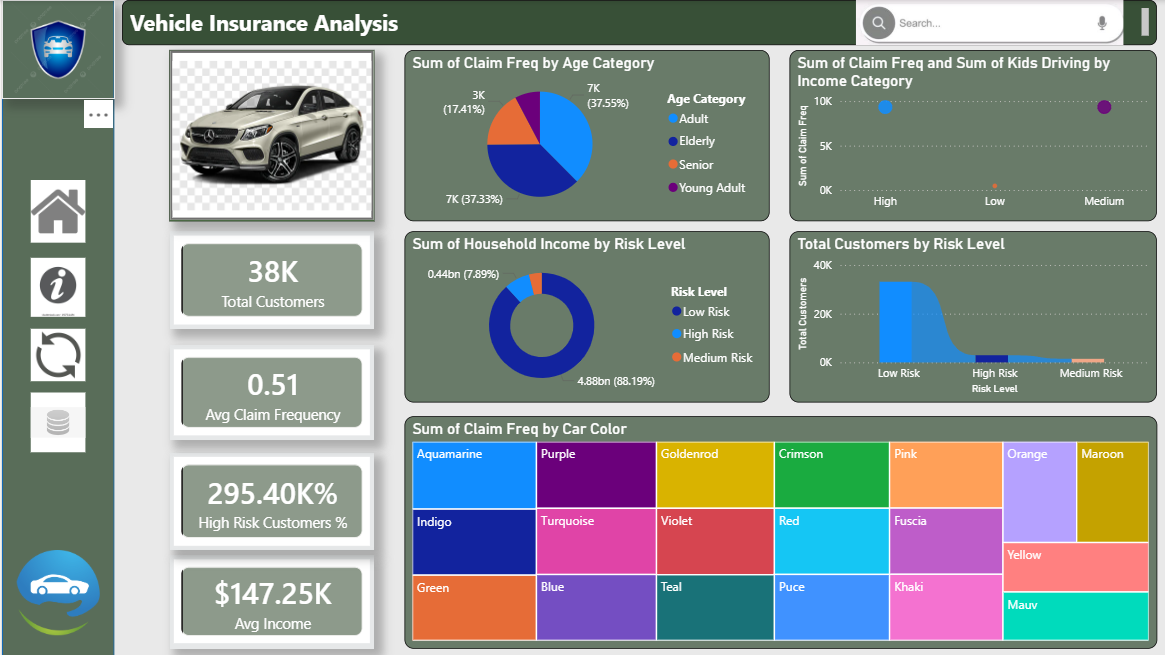

The page's visual inventory and layout, read from the dashboard file:
{"tool":"powerbi","page":{"name":"Page 1","canvas":[1280,720],"ordinal":0},"visuals":[{"type":"shape","box":[0,0,123.5,720.4],"z":0},{"type":"cardVisual","fields":{"Data":["Table1.Total Customers"]},"box":[183.9,253.9,225,107],"z":1000},{"type":"cardVisual","fields":{"Data":["Table1.Avg Claim Frequency"]},"box":[183.9,378.7,225,104.3],"z":2000},{"type":"cardVisual","fields":{"Data":["Table1.Avg Income"]},"box":[183.9,609.3,225,102.9],"z":3000},{"type":"cardVisual","fields":{"Data":["Table1.High Risk Customers %"]},"box":[183.9,496.7,225,107],"z":4000},{"type":"image","box":[0,0,123.5,108.4],"z":5000},{"type":"image","box":[13.7,603.8,96.1,93.3],"z":6000},{"type":"pieChart","fields":{"Category":["Table1.Age Category"],"Y":["Sum(Table1.Claim Freq)"]},"box":[441.9,54.9,400.7,188],"z":7000},{"type":"donutChart","fields":{"Category":["Table1.Risk Level"],"Y":["Sum(Table1.Household Income)"]},"box":[441.9,253.9,400.7,188],"z":8000},{"type":"scatterChart","fields":{"X":["Table1.Income Category"],"Y":["Sum(Table1.Claim Freq)"],"Size":["Sum(Table1.Kids Driving)"]},"box":[864.5,54.9,403.4,188],"z":9000},{"type":"treemap","fields":{"Group":["Table1.Car Color"],"Values":["Sum(Table1.Claim Freq)"]},"box":[441.9,456.9,826.1,255.2],"z":10000},{"type":"ribbonChart","fields":{"Category":["Table1.Risk Level"],"Y":["Table1.Total Customers"]},"box":[864.5,253.9,403.4,188],"z":11000},{"type":"image","box":[183.9,54.9,225,188],"z":12000},{"type":"textbox","box":[131.7,0,1136.2,49.4],"z":13000},{"type":"image","box":[31.6,197.6,60.4,68.6],"z":14000},{"type":"image","box":[31.6,266.2,60.4,98.8],"z":15000},{"type":"image","box":[31.6,360.9,60.4,57.6],"z":16000},{"type":"image","box":[31.6,430.9,60.4,65.9],"z":17000},{"type":"image","box":[935.9,0,296.4,49.4],"z":18000}]}

Visuals, with their boxes in screenshot pixels (x1, y1, x2, y2):
shape: <region>0, 0, 111, 647</region>
cardVisual - Table1.Total Customers: <region>165, 228, 367, 324</region>
cardVisual - Table1.Avg Claim Frequency: <region>165, 340, 367, 434</region>
cardVisual - Table1.Avg Income: <region>165, 547, 367, 639</region>
cardVisual - Table1.High Risk Customers %: <region>165, 446, 367, 542</region>
image: <region>0, 0, 111, 97</region>
image: <region>12, 542, 99, 626</region>
pieChart - Table1.Age Category x Sum(Table1.Claim Freq): <region>397, 49, 756, 218</region>
donutChart - Table1.Risk Level x Sum(Table1.Household Income): <region>397, 228, 756, 397</region>
scatterChart - Table1.Income Category x Sum(Table1.Claim Freq): <region>776, 49, 1138, 218</region>
treemap - Table1.Car Color x Sum(Table1.Claim Freq): <region>397, 410, 1138, 639</region>
ribbonChart - Table1.Risk Level x Table1.Total Customers: <region>776, 228, 1138, 397</region>
image: <region>165, 49, 367, 218</region>
textbox: <region>118, 0, 1138, 44</region>
image: <region>28, 177, 83, 239</region>
image: <region>28, 239, 83, 328</region>
image: <region>28, 324, 83, 376</region>
image: <region>28, 387, 83, 446</region>
image: <region>840, 0, 1106, 44</region>
